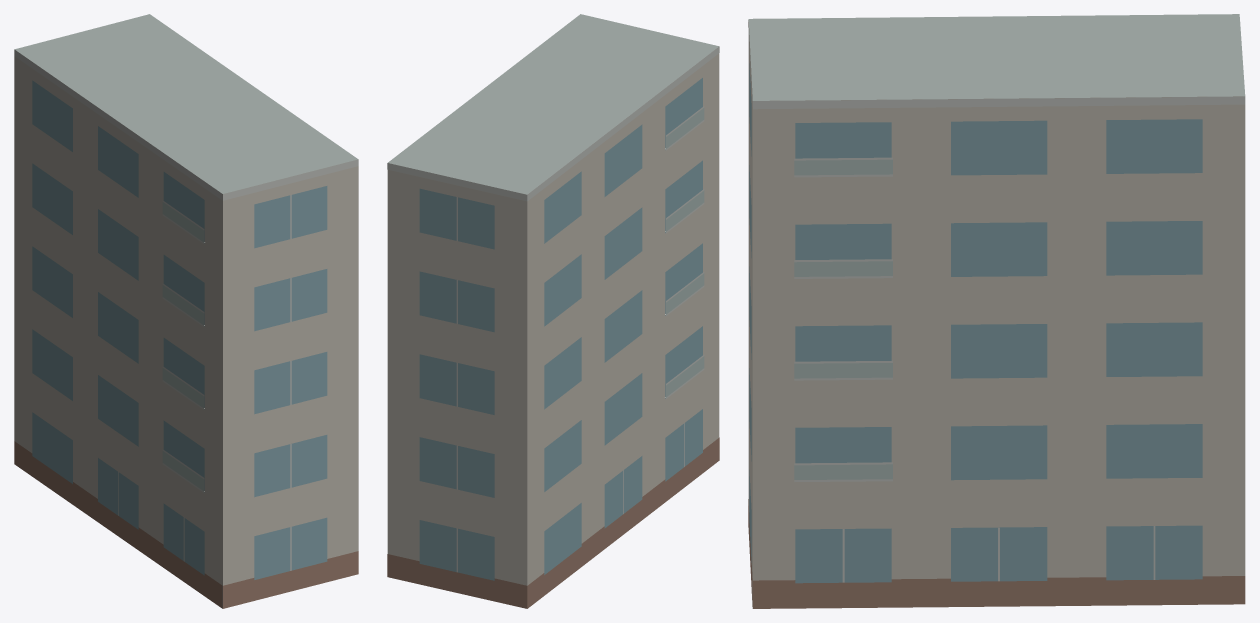
File: survey-upis-32714048.glb
3 views of the same model, side by side, from view 1: azimuth 30°, elevation 25°; view 2: azimuth 150°, elevation 25°; view 3: azimuth 270°, elevation 25° (orthographic). The views are drawn at different scales.
Visible parts, largest first — view 1: survey-upis-32714048.tmp; view 2: survey-upis-32714048.tmp; view 3: survey-upis-32714048.tmp.
Boxes of the visible parts, x1,y1,x2,y2 form: survey-upis-32714048.tmp: (14,14,358,608); survey-upis-32714048.tmp: (387,14,719,608); survey-upis-32714048.tmp: (748,14,1245,608).
Size of the model in its own units: 5.52 by 15 by 13.3.
